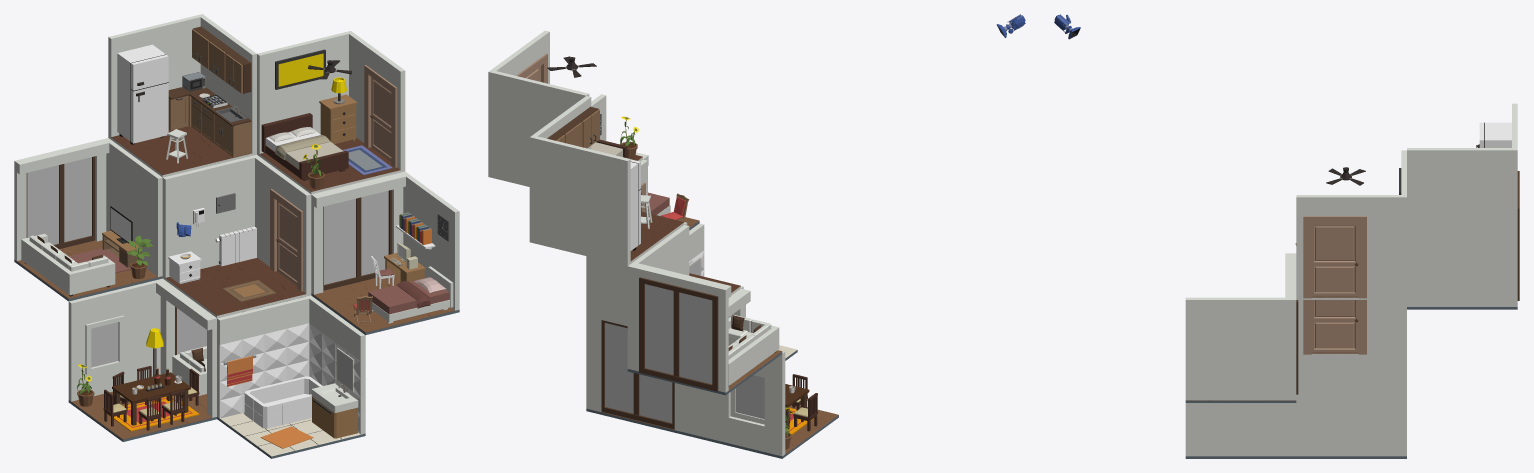
The model's file is Map_1.obj.
The picture shows the model from 3 angles, left to right: view 1: azimuth 30°, elevation 25°; view 2: azimuth 150°, elevation 25°; view 3: azimuth 270°, elevation 25°; orthographic projection. The views are drawn at different scales.
Parts seen in each view (by area): view 1: SM_Wall_1_22, SM_Wall_1_12, SM_Wall_1_18, SM_Wall_1_6, SM_Wall_1_23, SM_Wall_1_16, SM_Wall_1_17, SM_Window_7, SM_Window_35, SM_Fridge_261, SM_Floor_3A3, SM_Bed_2B_48 (+41 smaller); view 2: SM_Wall_1_17, SM_Window_35, SM_Wall_1_23, SM_Wall_1_18, SM_Wall_1_6, SM_Window_8, SM_Wall_1_42, SM_Couch_1B_161, SM_Wall_1_12, SM_Floor_3A_2, SM_Window_3A_45, SM_Floor_3B3_28 (+4 smaller); view 3: SM_Wall_1_16, SM_Wall_1_17, SM_Wall_1_42, SM_Wall_1_23, SM_Wall_1_22, SM_Wall_1_6, SM_Door_2B_31, SM_Door_2B2, SM_Wall_1_12, SM_Fridge_261.
Part boxes in pixels (x1,y1,x2,y2): SM_Wall_1_22: [217, 295, 365, 434]; SM_Wall_1_12: [162, 154, 311, 293]; SM_Wall_1_18: [68, 278, 216, 417]; SM_Wall_1_6: [14, 138, 162, 276]; SM_Wall_1_23: [257, 31, 405, 169]; SM_Wall_1_16: [311, 171, 459, 310]; SM_Wall_1_17: [108, 14, 256, 153]; SM_Window_7: [323, 190, 392, 290]; SM_Window_35: [26, 156, 95, 248]; SM_Fridge_261: [117, 44, 168, 144]; SM_Floor_3A3: [162, 258, 311, 318]; SM_Bed_2B_48: [261, 113, 348, 180]; SM_Wall_1_17: [529, 96, 630, 263]; SM_Window_35: [639, 277, 718, 391]; SM_Wall_1_23: [488, 30, 589, 184]; SM_Wall_1_18: [684, 288, 785, 456]; SM_Wall_1_6: [627, 225, 731, 392]; SM_Window_8: [601, 320, 674, 429]; SM_Wall_1_42: [586, 306, 684, 432]; SM_Couch_1B_161: [728, 314, 779, 386]; SM_Wall_1_12: [586, 159, 687, 313]; SM_Floor_3A_2: [529, 211, 684, 266]; SM_Window_3A_45: [730, 373, 764, 424]; SM_Floor_3B3_28: [684, 405, 838, 458]; SM_Wall_1_16: [1185, 253, 1296, 400]; SM_Wall_1_17: [1407, 103, 1517, 250]; SM_Wall_1_42: [1296, 356, 1406, 456]; SM_Wall_1_23: [1296, 150, 1406, 297]; SM_Wall_1_22: [1185, 403, 1296, 456]; SM_Wall_1_6: [1407, 253, 1517, 306]; SM_Door_2B_31: [1303, 216, 1366, 298]; SM_Door_2B2: [1303, 300, 1366, 354]; SM_Wall_1_12: [1298, 300, 1406, 353]; SM_Fridge_261: [1476, 122, 1511, 147].
Size of what is drawn, in the model's own units: 1472 by 1284 by 1682.
